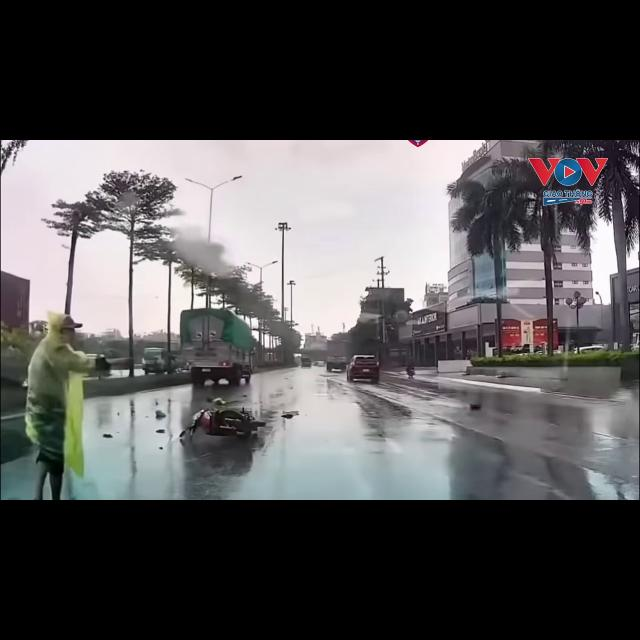car: (347, 355, 379, 383), (575, 345, 606, 353), (301, 356, 311, 367)
motorcycle: (180, 408, 265, 437), (407, 368, 414, 378)
truck: (180, 308, 253, 385), (0, 271, 29, 328), (146, 342, 180, 378), (326, 340, 349, 371)
